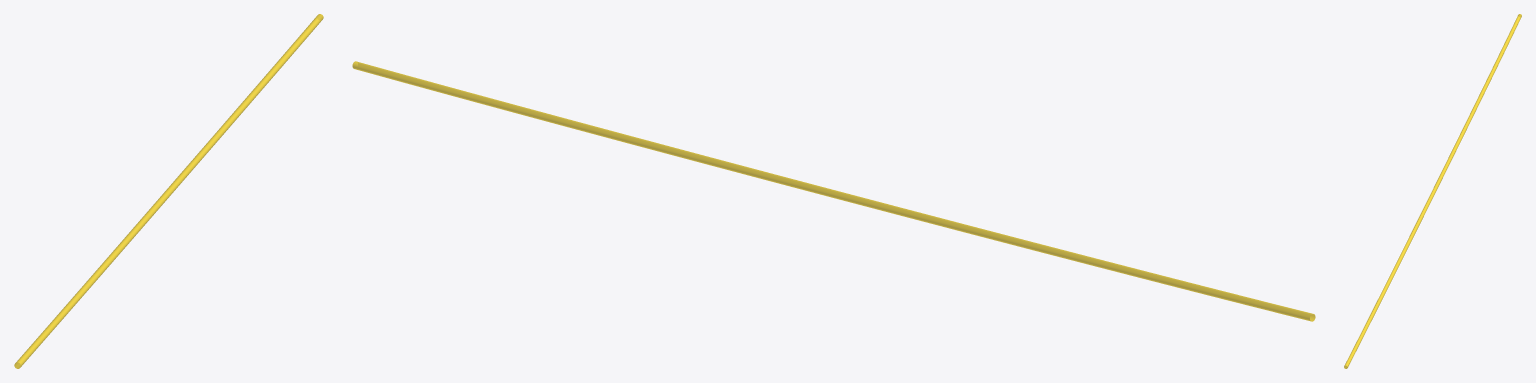
File: Event_15818458_track_9.fbx
3 views of the same model, side by side, from view 1: azimuth 90°, elevation 25°; view 2: azimuth 150°, elevation 25°; view 3: azimuth 270°, elevation 25° (orthographic). The views are drawn at different scales.
Parts seen in each view (by area): view 1: Model; view 2: Model; view 3: Model.
Part boxes in pixels (<box>): Model: <box>14,14,323,368</box>; Model: <box>352,61,1315,321</box>; Model: <box>1344,14,1521,368</box>.
Size of the model in its own units: 6.62 by 0.8832 by 1.8.
